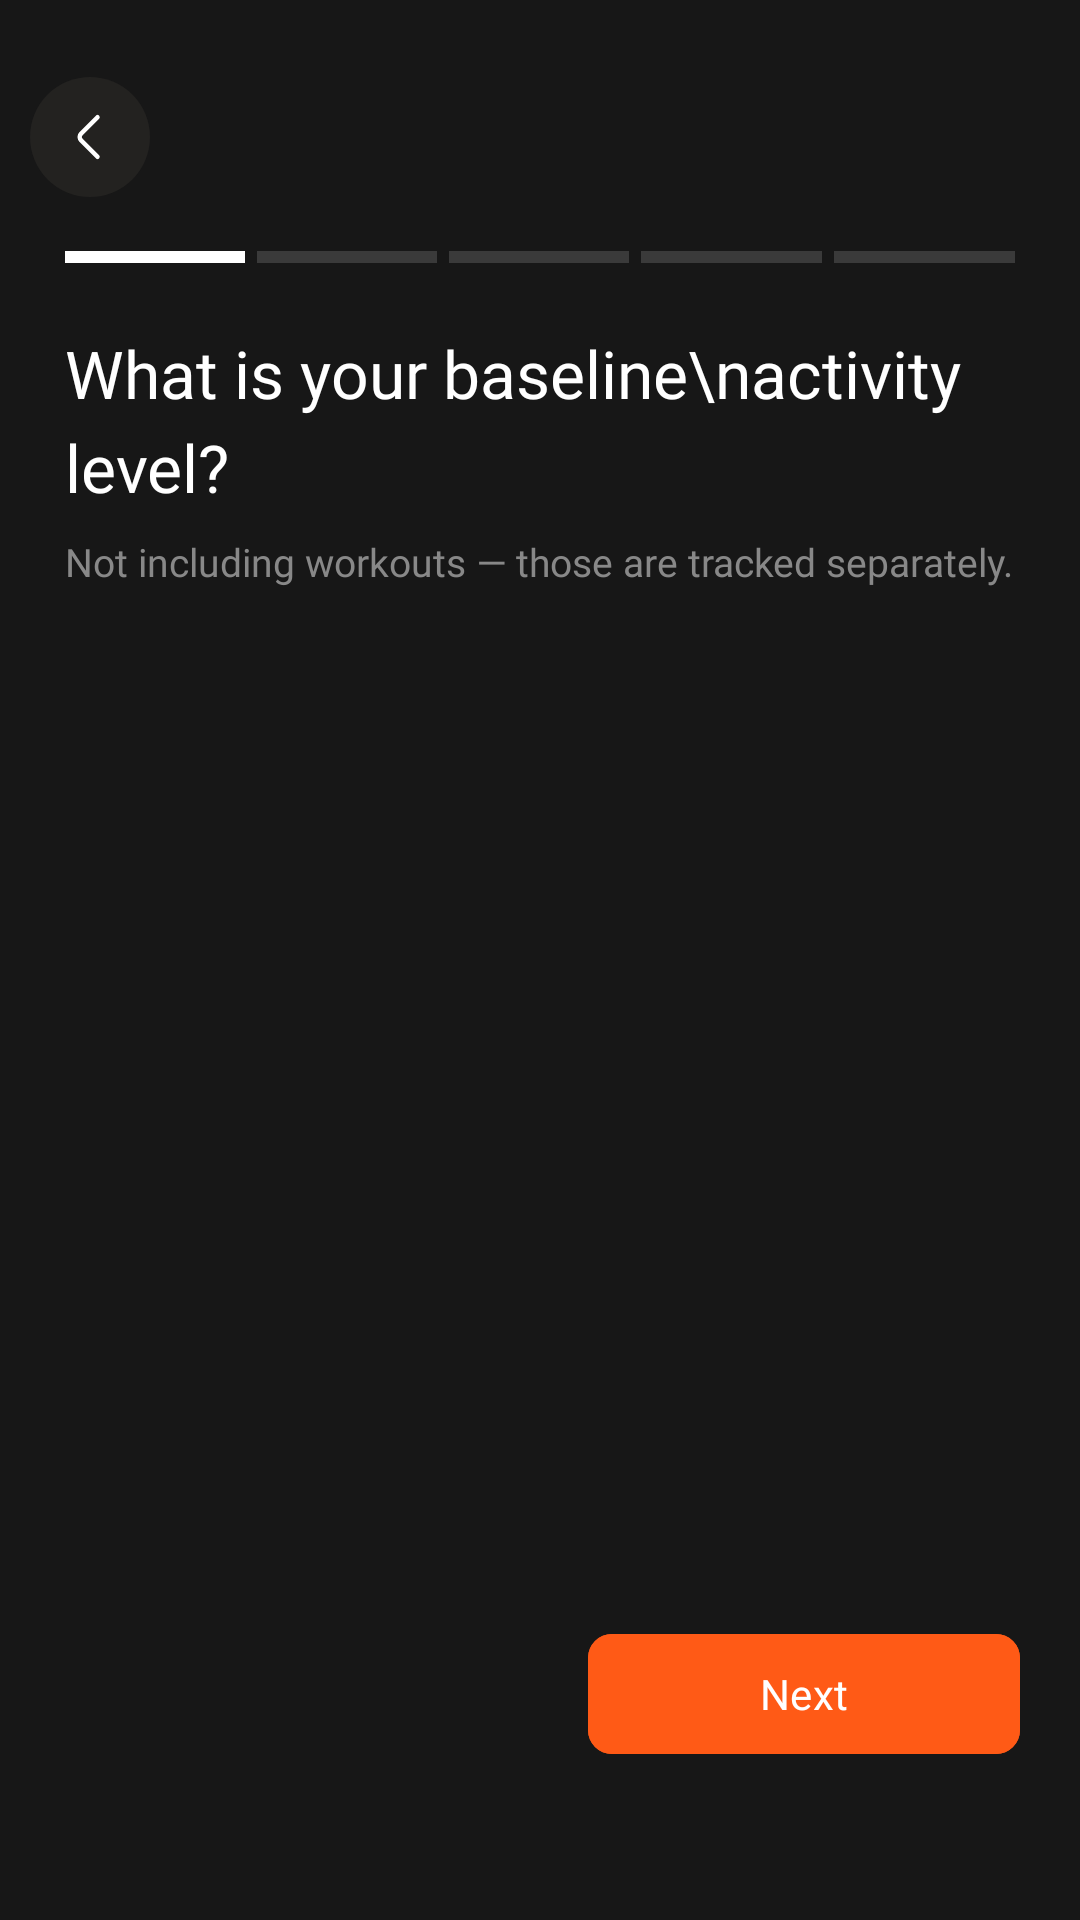

Icons on this 1080px×1920px Android screen, each with its box as (x1, y1, x2, y2):
back: (30, 77, 150, 197)
